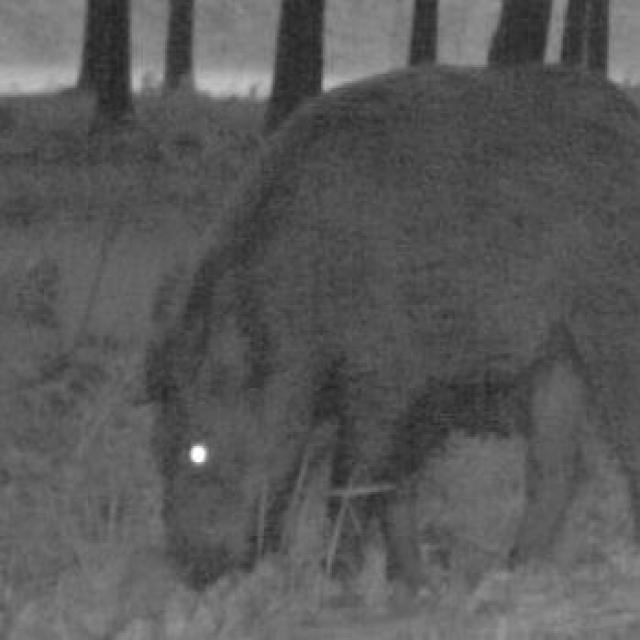pig: (107, 42, 640, 598)
